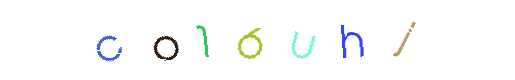1: (199, 0, 279, 80)
6: (210, 0, 290, 80)
C: (126, 0, 206, 80)
H: (238, 0, 318, 80)
J: (277, 0, 357, 80)
O: (164, 0, 244, 80)
U: (217, 0, 297, 80)
